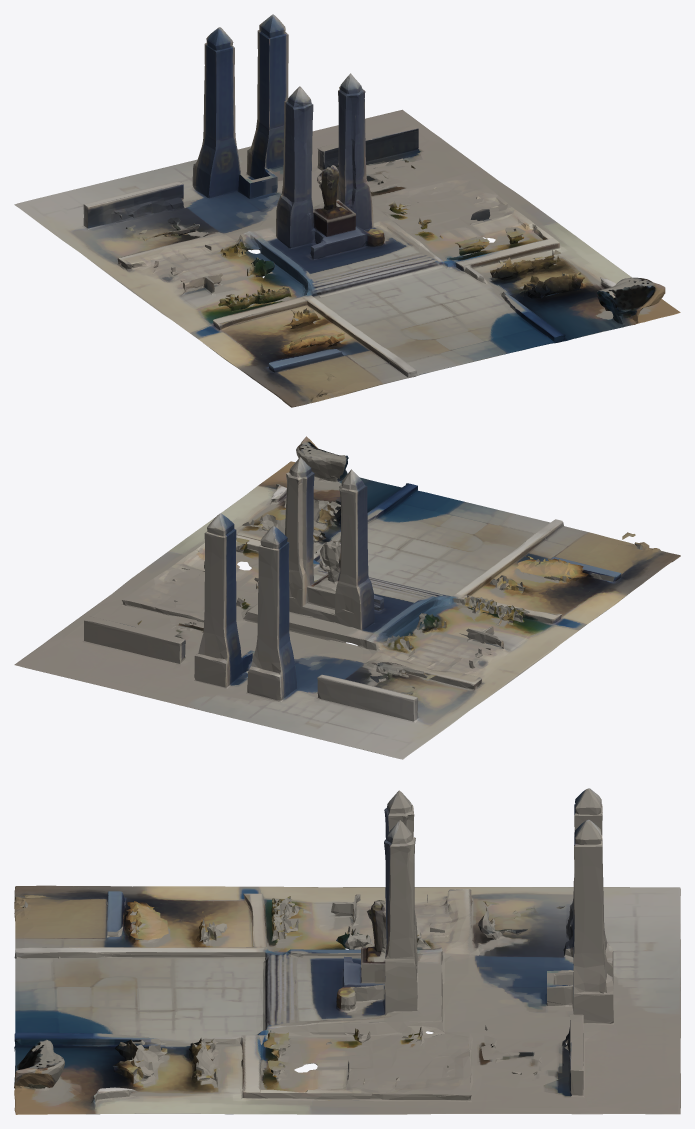
File: heroes-acre-exterior.glb
3 views of the same model, one above another, from view 1: azimuth 30°, elevation 25°; view 2: azimuth 150°, elevation 25°; view 3: azimuth 270°, elevation 25° (orthographic). The views are drawn at different scales.
Visible parts, largest first — view 1: world; view 2: world; view 3: world.
Boxes of the visible parts, x1,y1,x2,y2 form: world: [14, 14, 680, 407]; world: [14, 436, 680, 759]; world: [14, 788, 680, 1114].
Size of the model in its own units: 0.8106 by 0.3272 by 1.
Materials: 1 (1 with a texture image).
